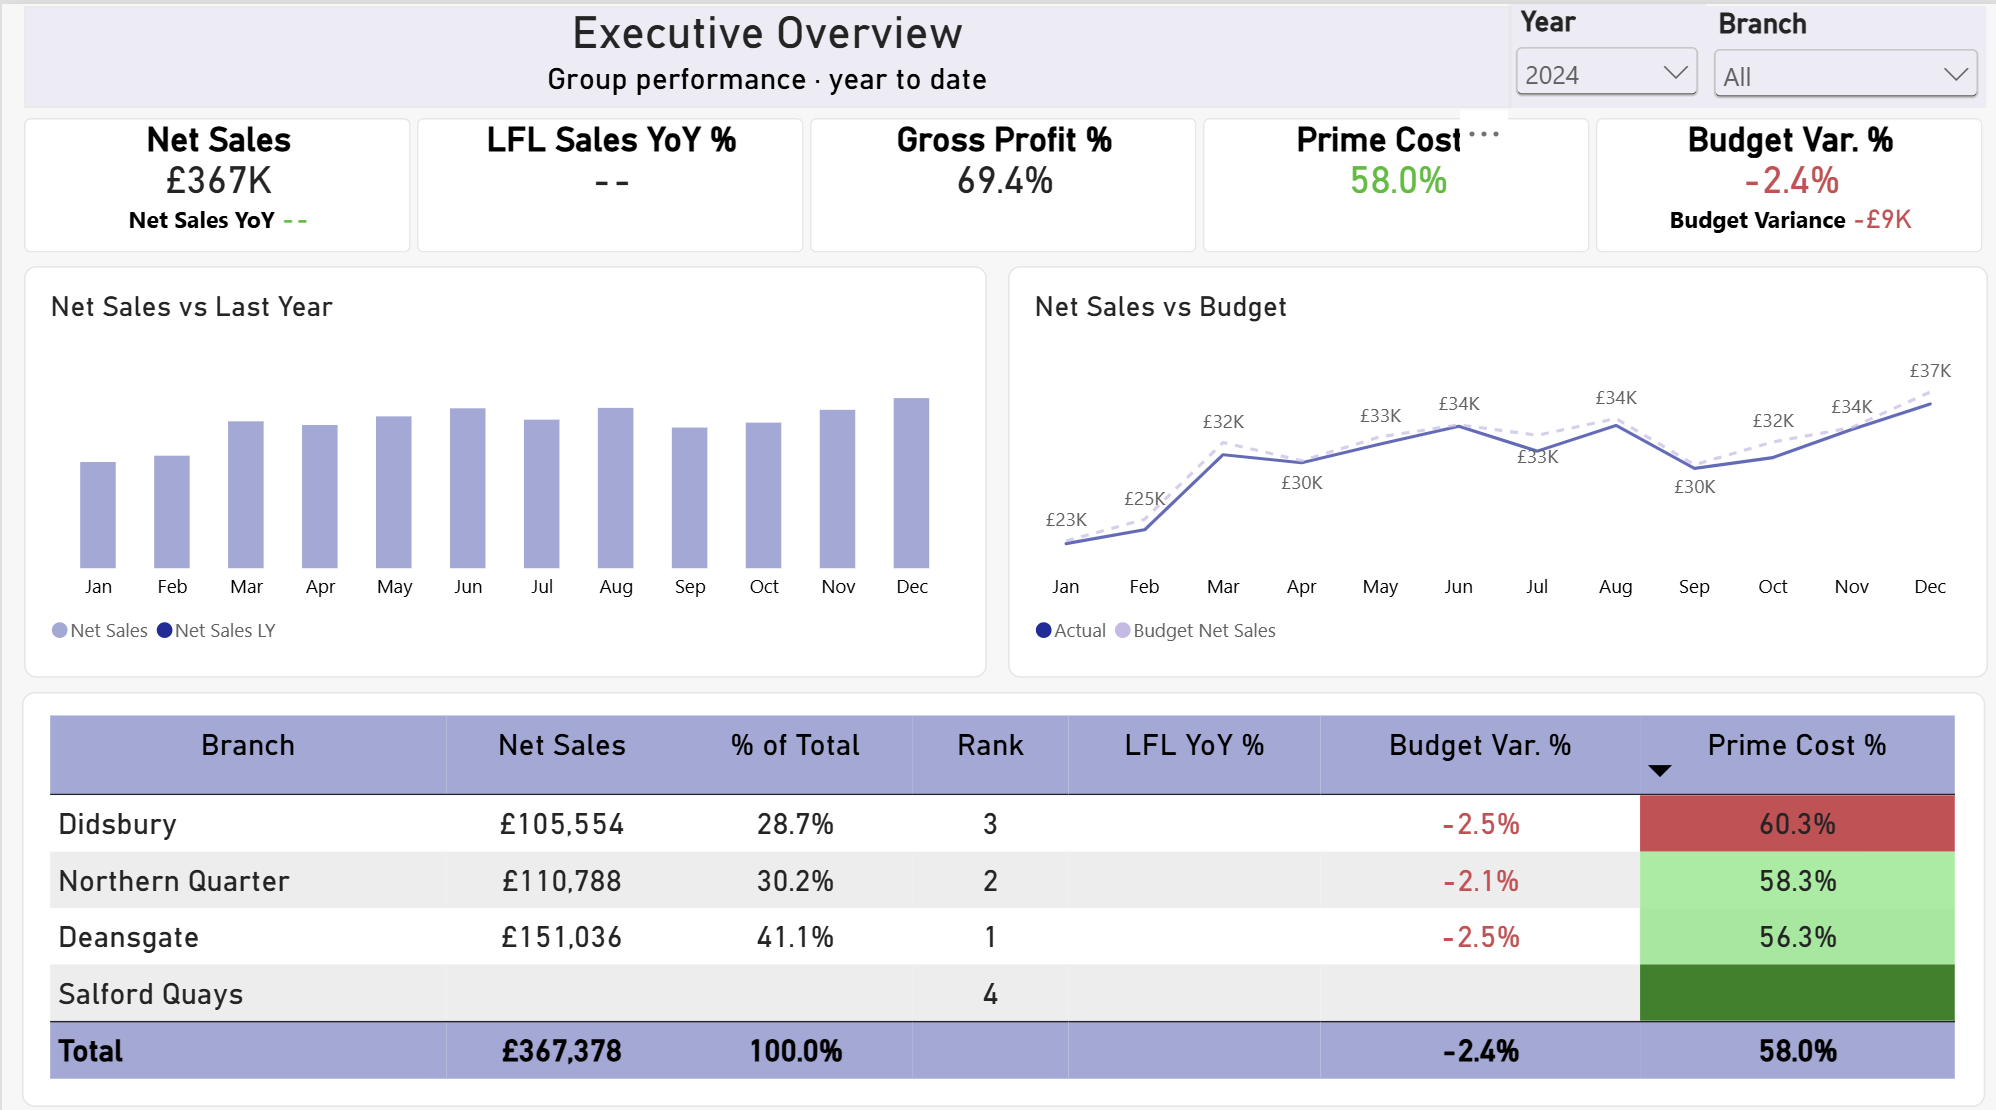

What the dashboard file says about the page in this screenshot:
{"tool":"powerbi","page":{"name":"Executive Overview","canvas":[1280,720],"ordinal":0},"visuals":[{"type":"slicer","fields":{"Values":["dim_date.year"]},"box":[962.1,0,126.2,66.2],"z":0},{"type":"slicer","fields":{"Values":["dim_branch.branch_name"]},"box":[1087.9,1.5,178.8,65.2],"z":1000},{"type":"lineClusteredColumnComboChart","title":"Net Sales vs Last Year","fields":{"Category":["dim_date.month_short"],"Y":["_Measures.Net Sales"],"Y2":["_Measures.Net Sales LY"]},"box":[14.2,167.6,615,263],"z":2000},{"type":"tableEx","title":"Net Sales vs Last Year","fields":{"Values":["dim_branch.branch_name","_Measures.Net Sales","_Measures.Sales % of Total","_Measures.Branch Sales Rank","_Measures.LFL Sales YoY %","_Measures.Budget Variance %","_Measures.Prime Cost %"]},"box":[12.5,440,1254.1,264.9],"z":3000},{"type":"lineChart","title":"Net Sales vs Budget","fields":{"Category":["dim_date.month_short"],"Y":["_Measures.Net Sales"],"Y2":["_Measures.Budget Net Sales"]},"box":[642.2,167.6,626.1,263],"z":4000},{"type":"cardVisual","fields":{"Data":["_Measures.Net Sales","_Measures.LFL Sales YoY %","_Measures.Gross Profit %","_Measures.Prime Cost %","_Measures.Budget Variance %"]},"box":[13.6,72.7,1254.5,86.4],"z":5000},{"type":"textbox","title":" Executive Overview","box":[13.6,1.5,950,65.2],"z":6000}]}

Visuals, with their boxes in screenshot pixels (x1, y1, x2, y2), scaled from the page's 1280x720 canvas onto the 1996x1110 screenshot:
slicer - dim_date.year: <bbox>1500, 0, 1697, 102</bbox>
slicer - dim_branch.branch_name: <bbox>1696, 2, 1975, 103</bbox>
"Net Sales vs Last Year" lineClusteredColumnComboChart: <bbox>22, 258, 981, 664</bbox>
"Net Sales vs Last Year" tableEx: <bbox>19, 678, 1975, 1087</bbox>
"Net Sales vs Budget" lineChart: <bbox>1001, 258, 1978, 664</bbox>
cardVisual - _Measures.Net Sales x _Measures.LFL Sales YoY %: <bbox>21, 112, 1977, 245</bbox>
" Executive Overview" textbox: <bbox>21, 2, 1503, 103</bbox>
